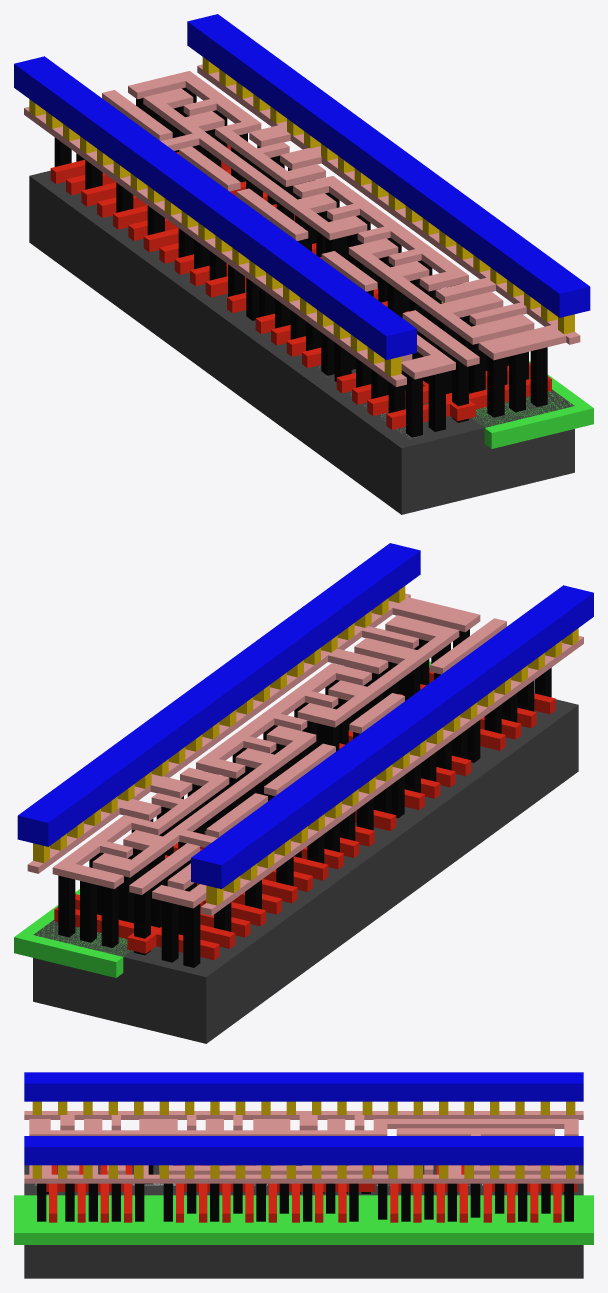
File: sky130_fd_sc_hd__o32ai_4.obj
3 views of the same model, one above another, from view 1: azimuth 30°, elevation 25°; view 2: azimuth 150°, elevation 25°; view 3: azimuth 270°, elevation 25° (orthographic). The views are drawn at different scales.
Parts seen in each view (by area): view 1: subs, metal1, li, licon, poly, mcon, nwell; view 2: subs, metal1, li, licon, poly, mcon, nwell; view 3: metal1, subs, nwell, li, poly, licon, mcon.
Boxes of the visible parts, x1,y1,x2,y2 form: subs: (29, 170, 574, 514); metal1: (14, 14, 590, 360); li: (24, 64, 580, 386); licon: (54, 87, 547, 437); poly: (50, 144, 551, 429); mcon: (29, 57, 574, 376); nwell: (441, 301, 593, 448); subs: (33, 699, 578, 1043); metal1: (17, 543, 593, 889); li: (27, 593, 583, 915); licon: (58, 629, 551, 967); poly: (54, 667, 555, 960); mcon: (33, 586, 578, 905); nwell: (14, 661, 431, 977); metal1: (24, 1072, 583, 1165); subs: (24, 1165, 583, 1278); nwell: (14, 1195, 593, 1244); li: (24, 1111, 583, 1183); poly: (46, 1165, 577, 1222); licon: (37, 1165, 573, 1221); mcon: (32, 1101, 575, 1178).
Size of the model in its own units: 3.2 by 2.74 by 10.5.
